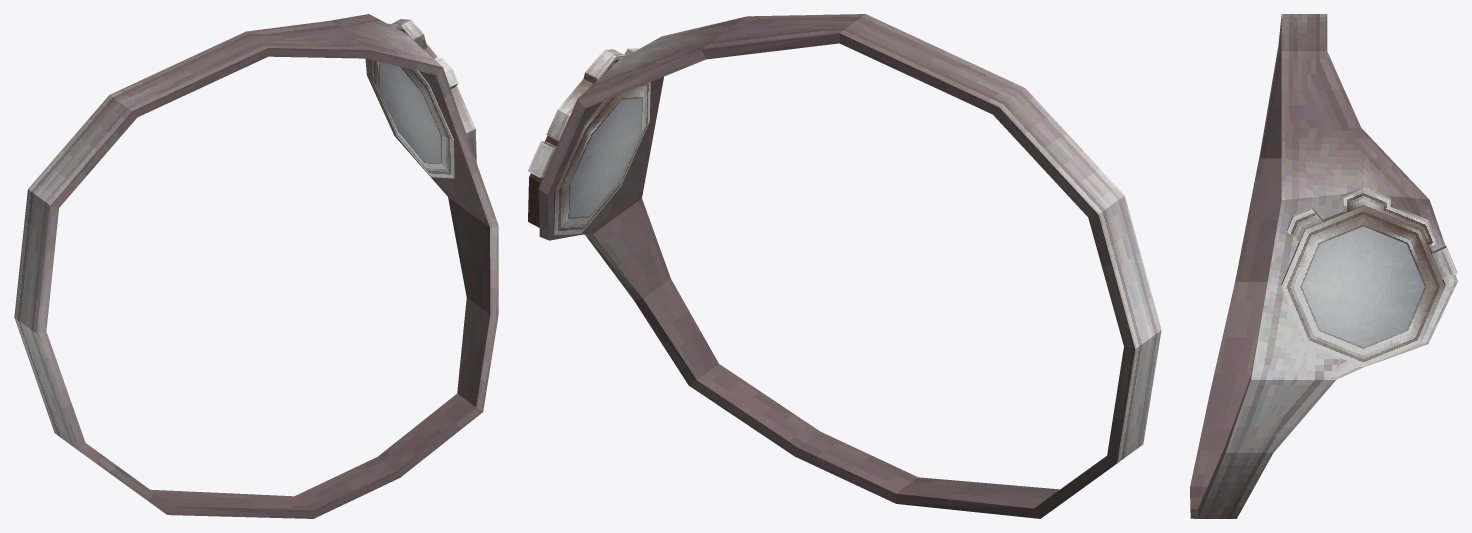
File: options1262.obj
The picture shows the model from 3 angles, left to right: view 1: azimuth 30°, elevation 25°; view 2: azimuth 150°, elevation 25°; view 3: azimuth 270°, elevation 25°; orthographic projection. The views are drawn at different scales.
Visible parts, largest first — view 1: options1262; view 2: options1262; view 3: options1262.
Boxes of the visible parts, left/top/right/bottom form: options1262: left=14, top=14, right=498, bottom=518; options1262: left=527, top=14, right=1161, bottom=518; options1262: left=1190, top=14, right=1457, bottom=518.
Bounding box in the file's own units: 0.4335 × 0.3879 × 0.2118.
Materials: 2 (2 with a texture image).
